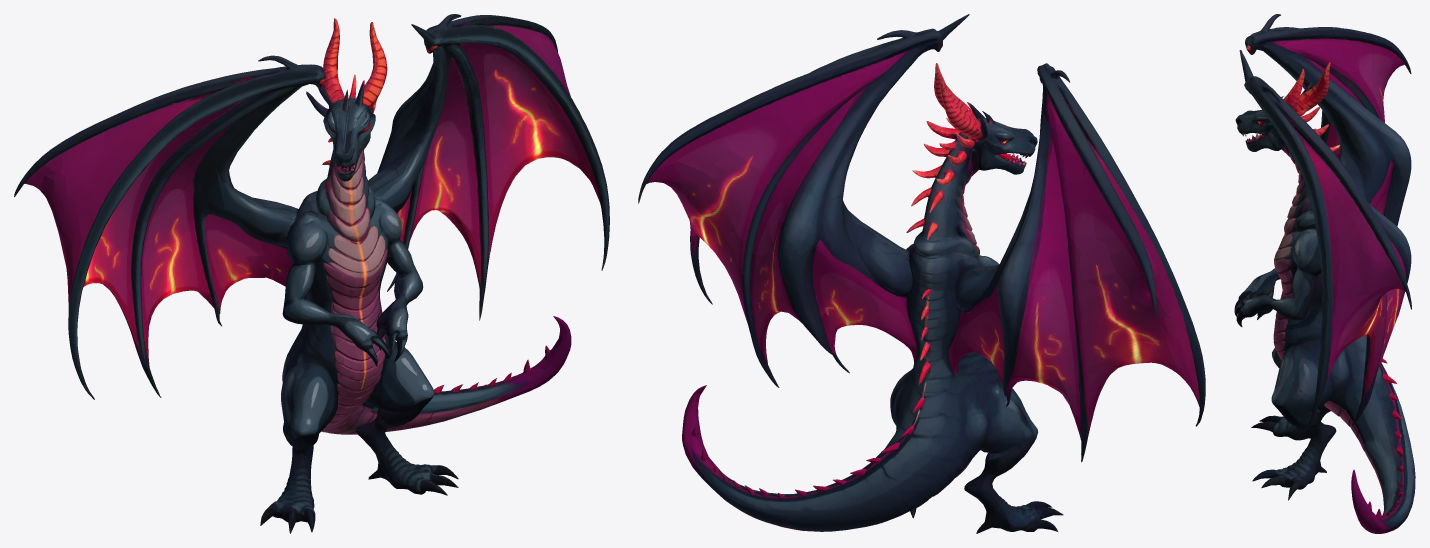
File: volcano-dragon-mesh.glb
The picture shows the model from 3 angles, left to right: view 1: azimuth 30°, elevation 25°; view 2: azimuth 150°, elevation 25°; view 3: azimuth 270°, elevation 25°; orthographic projection. The views are drawn at different scales.
Parts seen in each view (by area): view 1: Mesh_0; view 2: Mesh_0; view 3: Mesh_0.
Part boxes in pixels (x1=…): Mesh_0: x1=14, y1=14, x2=609, y2=533; Mesh_0: x1=638, y1=14, x2=1205, y2=533; Mesh_0: x1=1234, y1=14, x2=1415, y2=533.
Size of the model in its own units: 1.9 by 1.65 by 0.6433.
Materials: 1 (1 with a texture image).
